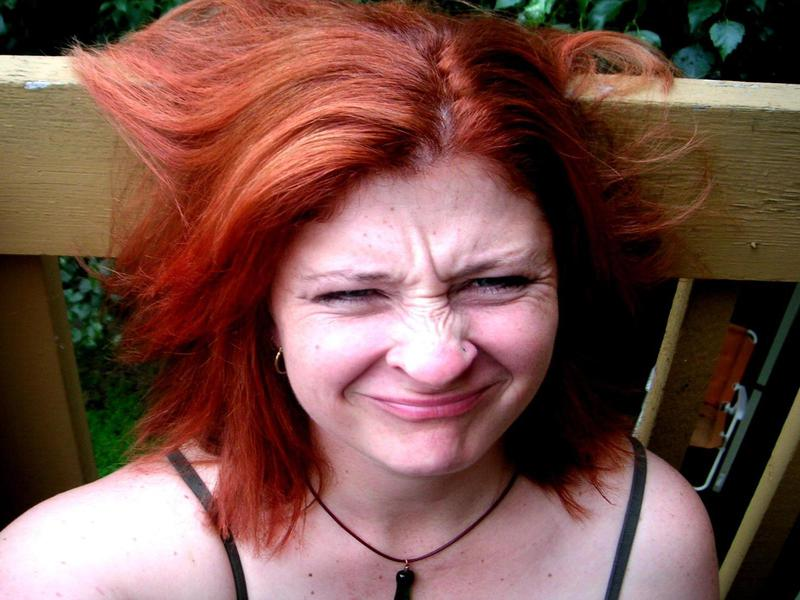person: (1, 10, 721, 600)
